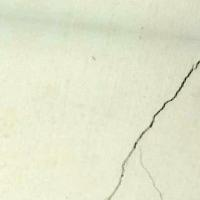crack: (98, 57, 199, 199)
